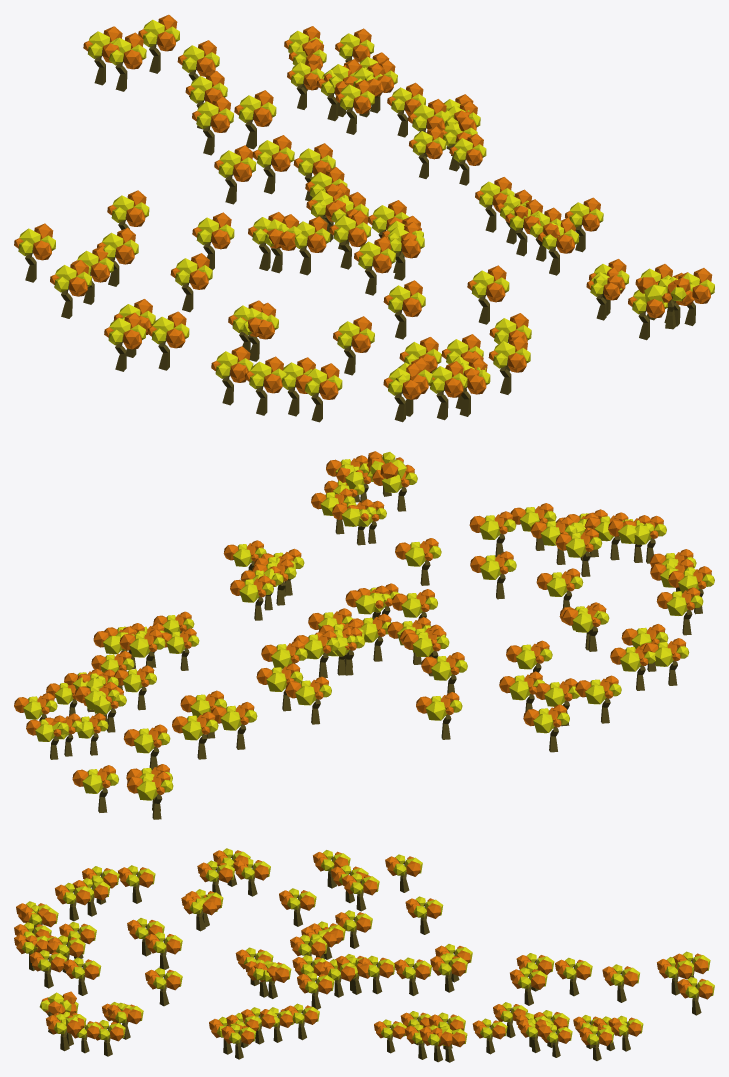
The model's file is tree2.gltf.
3 views of the same model, one above another, from view 1: azimuth 30°, elevation 25°; view 2: azimuth 150°, elevation 25°; view 3: azimuth 270°, elevation 25° (orthographic). The views are drawn at different scales.
Parts seen in each view (by area): view 1: tree 2.033, tree 2.016, tree 2.007, tree 2.042, tree 2.005, tree 2.020, tree 2.030, tree 2.037, tree 2.004, tree 2.048, tree 2.031, tree 2.049 (+55 smaller); view 2: tree 2.031, tree 2.017, tree 2.044, tree 2.009, tree 2.048, tree 2.005, tree 2.030, tree 2.004, tree 2.002, tree 2.023, tree 2.001, tree 2.037 (+50 smaller); view 3: tree 2.016, tree 2.017, tree 2.039, tree 2.049, tree 2.050, tree 2.042, tree 2.046, tree 2.009, tree 2.012, tree 2.002, tree 2.005, tree 2.048 (+60 smaller).
Part boxes in pixels (x1,y1,x2,y2): tree 2.033: [488, 336, 530, 394]; tree 2.016: [170, 253, 212, 312]; tree 2.007: [147, 311, 189, 370]; tree 2.042: [252, 135, 294, 194]; tree 2.005: [14, 223, 55, 282]; tree 2.020: [333, 316, 374, 375]; tree 2.030: [383, 280, 425, 339]; tree 2.037: [192, 96, 233, 155]; tree 2.004: [50, 260, 91, 318]; tree 2.048: [467, 265, 509, 324]; tree 2.031: [214, 145, 256, 204]; tree 2.049: [234, 90, 276, 149]; tree 2.031: [285, 676, 331, 724]; tree 2.017: [416, 692, 462, 739]; tree 2.044: [172, 711, 218, 759]; tree 2.009: [656, 587, 703, 635]; tree 2.048: [395, 538, 441, 585]; tree 2.005: [523, 704, 569, 752]; tree 2.030: [470, 551, 516, 599]; tree 2.004: [575, 675, 621, 723]; tree 2.002: [72, 765, 118, 812]; tree 2.023: [555, 529, 602, 576]; tree 2.001: [127, 772, 173, 819]; tree 2.037: [211, 702, 257, 749]; tree 2.016: [279, 888, 316, 926]; tree 2.017: [405, 896, 443, 934]; tree 2.039: [63, 957, 101, 995]; tree 2.049: [510, 967, 547, 1005]; tree 2.050: [602, 964, 639, 1002]; tree 2.042: [430, 954, 467, 992]; tree 2.046: [394, 957, 431, 995]; tree 2.009: [118, 865, 155, 903]; tree 2.012: [342, 872, 379, 911]; tree 2.002: [677, 977, 714, 1015]; tree 2.005: [385, 854, 422, 892]; tree 2.048: [145, 967, 182, 1006].
Size of the model in its own units: 26.71 by 3.79 by 40.88.
